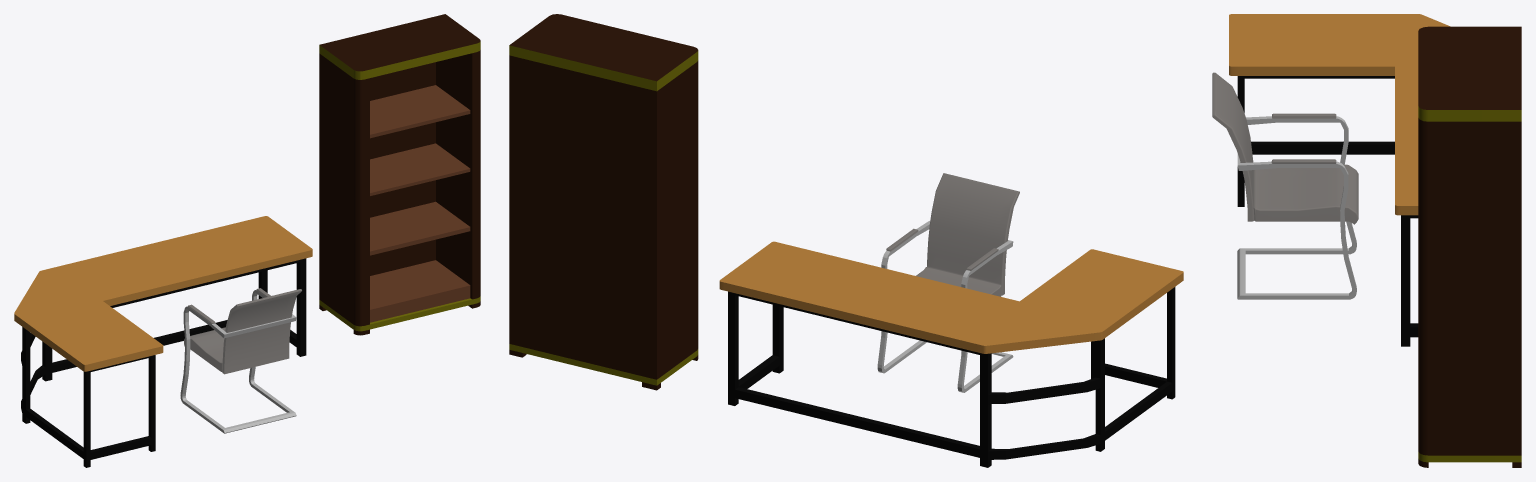
The picture shows the model from 3 angles, left to right: view 1: azimuth 30°, elevation 25°; view 2: azimuth 150°, elevation 25°; view 3: azimuth 270°, elevation 25°; orthographic projection. The views are drawn at different scales.
Parts seen in each view (by area): view 1: Bookshelf, Desk, Chair; view 2: Bookshelf, Desk, Chair; view 3: Bookshelf, Desk, Chair.
Boxes of the visible parts, x1,y1,x2,y2 form: Bookshelf: (319, 14, 480, 335); Desk: (14, 216, 312, 467); Chair: (180, 288, 301, 433); Bookshelf: (509, 14, 698, 390); Desk: (719, 241, 1183, 467); Chair: (877, 173, 1019, 392); Bookshelf: (1418, 26, 1521, 467); Desk: (1229, 14, 1450, 346); Chair: (1212, 72, 1358, 299).
Size of the model in its own units: 17.78 by 9.57 by 7.49.
